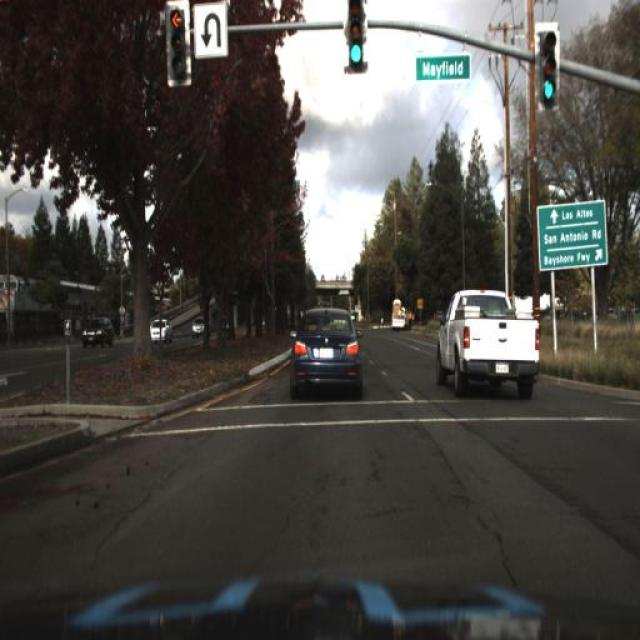car: (430, 278, 544, 406), (286, 304, 366, 397), (79, 312, 110, 352), (387, 299, 409, 335), (390, 296, 409, 332), (149, 316, 170, 343), (189, 317, 210, 343)
trafficLight-GreenLeft: (536, 50, 558, 111)
